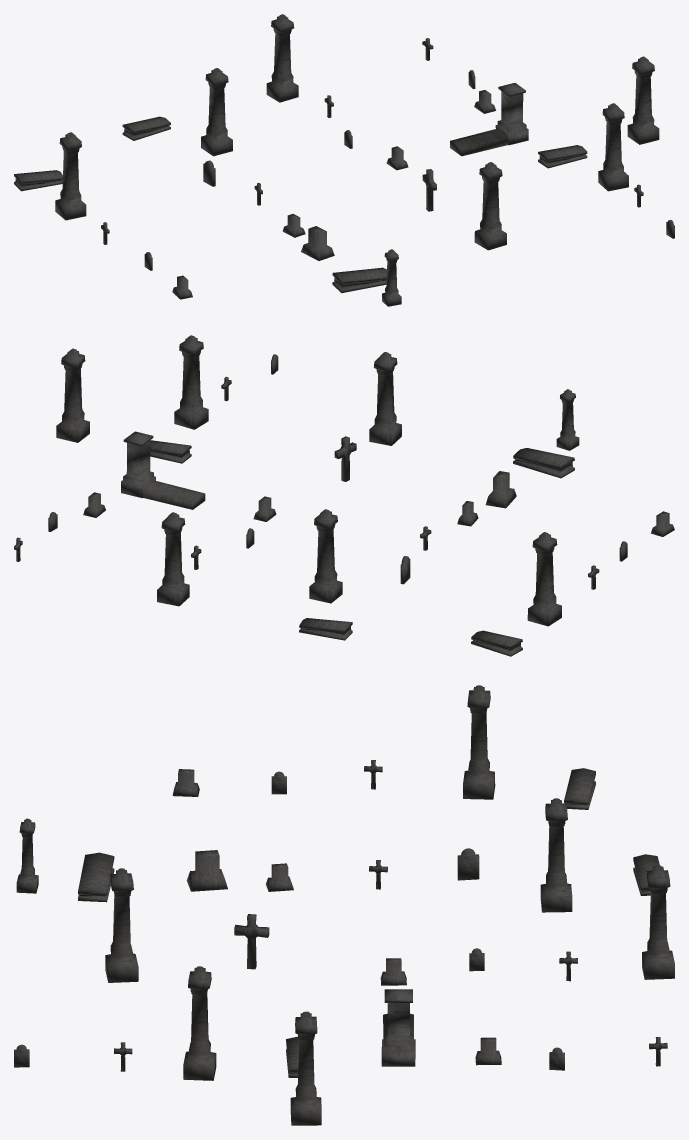
The model's file is cemetery.glb.
3 renders of one model, top to bottom at view 1: azimuth 30°, elevation 25°; view 2: azimuth 150°, elevation 25°; view 3: azimuth 270°, elevation 25°, orthographic. The views are drawn at different scales.
Visible parts, largest first — view 1: Tomb_23, GraveColumn_37, GraveColumn_7, GraveColumn_31, GraveColumn_19, GraveColumn_25, GraveColumn_13, GraveCoffin2_6, GraveCoffin2_18, GraveCoffin2_30, GraveCoffin2_36, GraveStone_16_1 (+1 smaller); view 2: Tomb_23, GraveColumn_13, GraveColumn_25, GraveColumn_19, GraveColumn_31, GraveColumn_37, GraveColumn_7, GraveCoffin2_6, GraveCoffin2_36, GraveCoffin2_30, GraveColumn_1, GraveStone_16_1 (+2 smaller); view 3: GraveColumn_7, GraveColumn_13, GraveColumn_37, GraveColumn_25, GraveColumn_31, GraveColumn_19, Tomb_23, GraveCoffin2_6, GraveStone_16_1, GraveColumn_1, GraveCoffin2_30, GraveCross_2 (+2 smaller).
Boxes of the visible parts, x1,y1,x2,y2 form: Tomb_23: [450, 83, 528, 156]; GraveColumn_37: [266, 14, 298, 102]; GraveColumn_7: [474, 162, 506, 250]; GraveColumn_31: [201, 68, 232, 156]; GraveColumn_19: [627, 56, 659, 144]; GraveColumn_25: [55, 132, 86, 220]; GraveColumn_13: [598, 103, 628, 191]; GraveCoffin2_6: [332, 267, 386, 293]; GraveCoffin2_18: [538, 145, 587, 168]; GraveCoffin2_30: [14, 170, 62, 191]; GraveCoffin2_36: [122, 116, 170, 140]; GraveStone_16_1: [301, 226, 334, 260]; Tomb_23: [121, 431, 205, 509]; GraveColumn_13: [174, 335, 208, 429]; GraveColumn_25: [527, 532, 561, 626]; GraveColumn_19: [56, 348, 89, 442]; GraveColumn_31: [309, 509, 342, 603]; GraveColumn_37: [157, 512, 189, 606]; GraveColumn_7: [369, 352, 401, 445]; GraveCoffin2_6: [513, 448, 574, 478]; GraveCoffin2_36: [299, 618, 352, 640]; GraveCoffin2_30: [471, 630, 522, 656]; GraveColumn_1: [556, 389, 579, 450]; GraveStone_16_1: [485, 471, 516, 508]; GraveColumn_7: [105, 868, 138, 982]; GraveColumn_13: [183, 966, 216, 1080]; GraveColumn_37: [642, 865, 674, 979]; GraveColumn_25: [463, 685, 495, 799]; GraveColumn_31: [540, 798, 572, 912]; GraveColumn_19: [290, 1011, 321, 1125]; Tomb_23: [381, 989, 415, 1066]; GraveCoffin2_6: [78, 852, 114, 902]; GraveStone_16_1: [186, 850, 227, 891]; GraveColumn_1: [16, 818, 38, 893]; GraveCoffin2_30: [564, 768, 595, 809]; GraveCross_2: [234, 914, 269, 969].
Size of the model in its own units: 6.01 by 0.901 by 4.9.
Materials: 1 (1 with a texture image).
